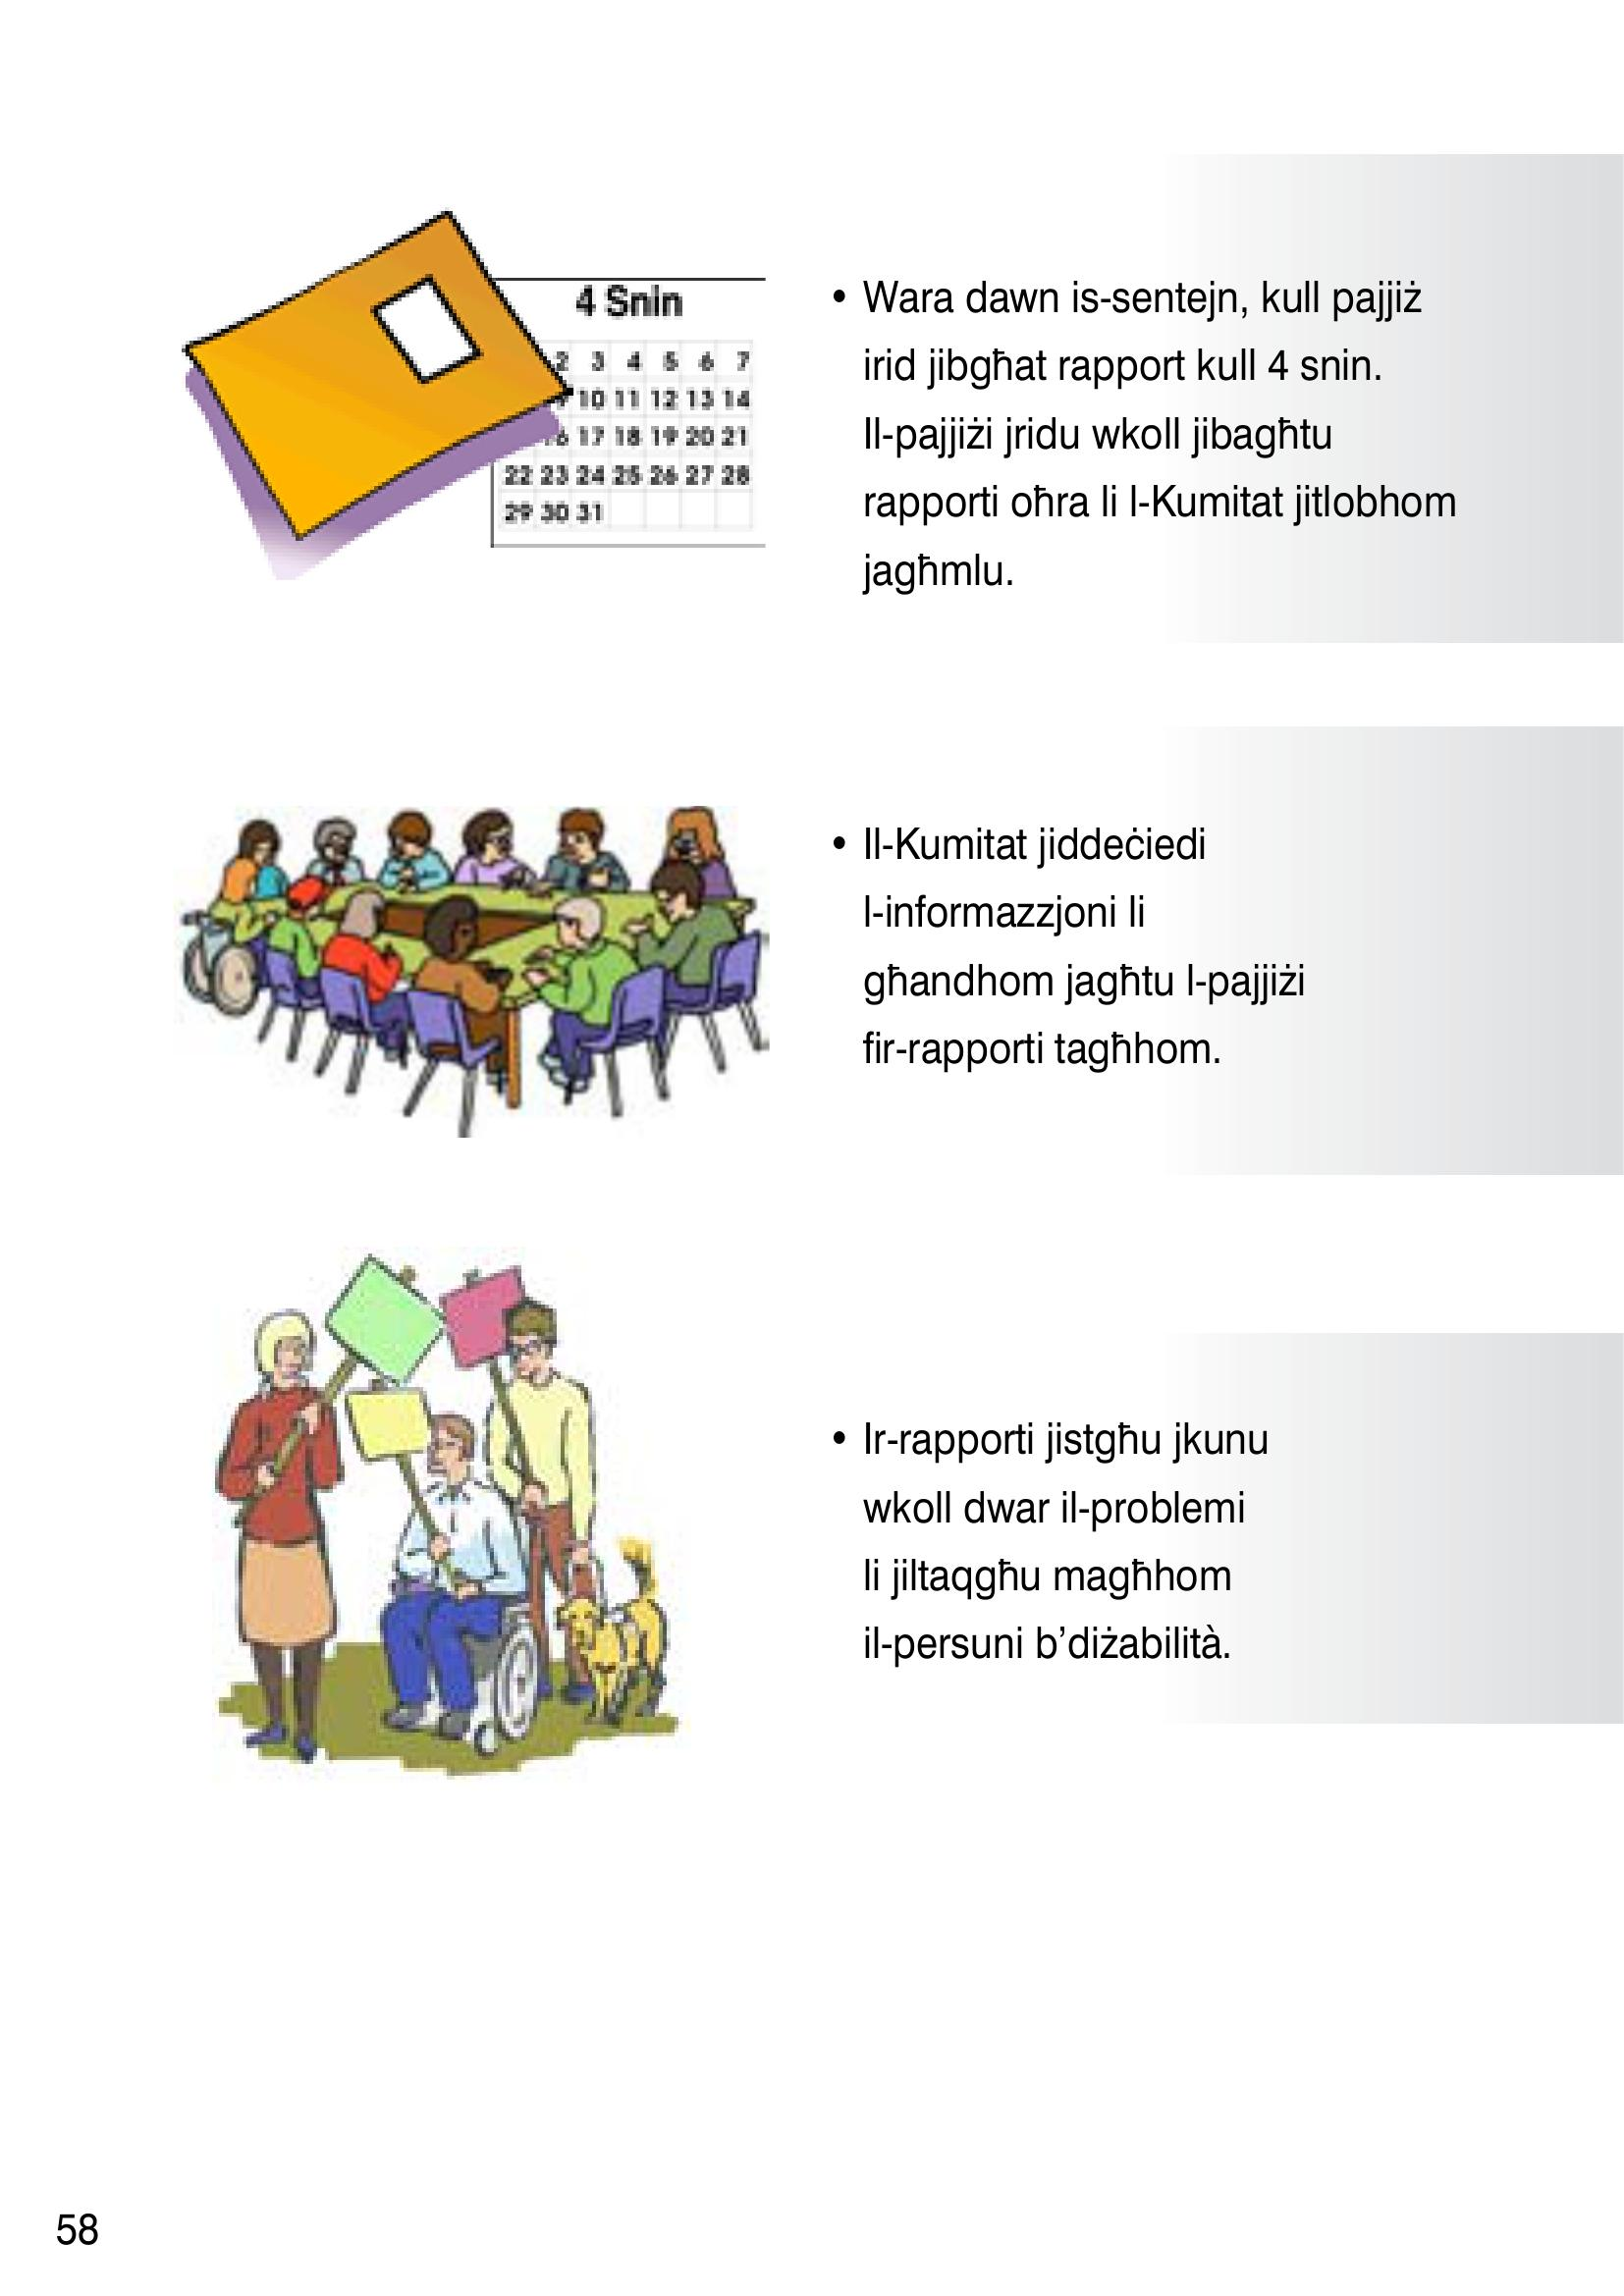text: (808, 248, 1497, 1706)
